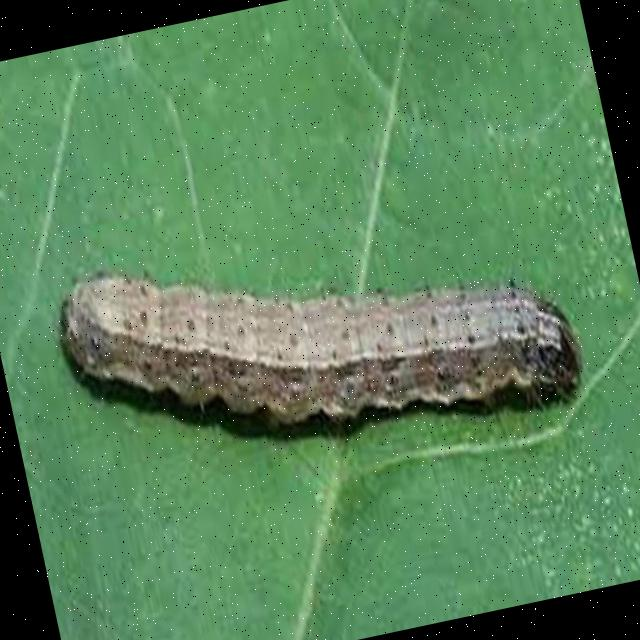worm: (49, 177, 594, 510)
